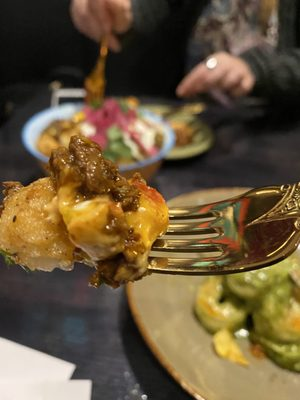sushi: (147, 181, 300, 274), (20, 97, 176, 184), (62, 107, 176, 185)
